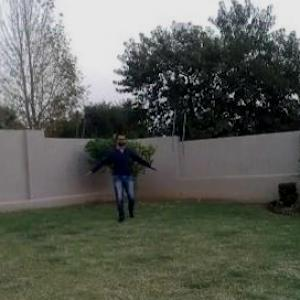land: (75, 106, 158, 238)
